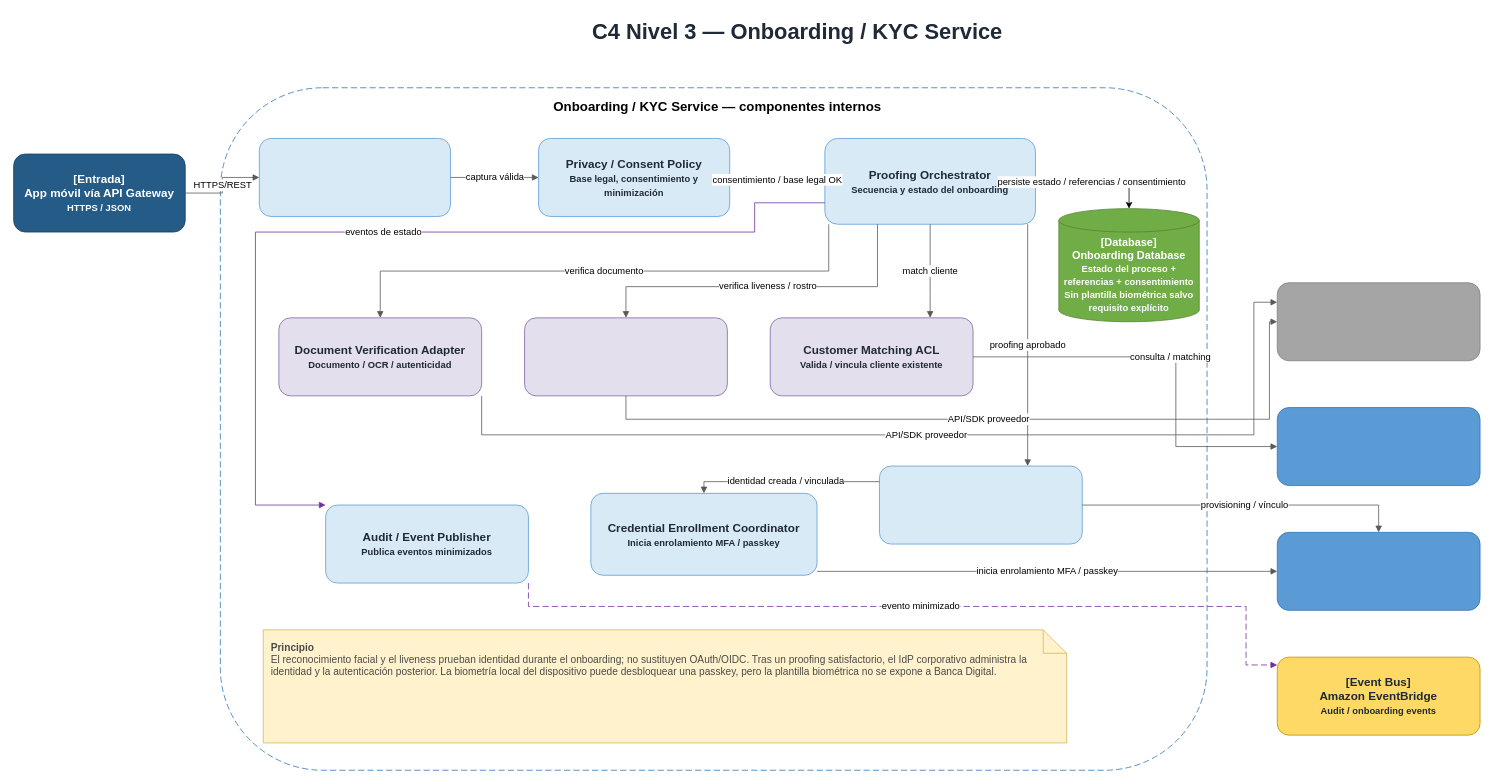
Image size: 1494x784. Some labels were removed from this diagram. Each missing label, with the box of its shape:
[Sistema] Core / Customer Detail Matching y validación de cliente: (1276, 407, 1480, 486)
[Sistema] IdP corporativo Identidad / MFA / passkeys: (1276, 532, 1480, 610)
[Tercero] Proveedor KYC / Biometría Documento, liveness, rostro: (1276, 282, 1480, 361)
Biometric Verification Adapter Liveness + comparación facial: (524, 317, 727, 396)
Identity Provisioner Alta / vínculo de identidad en IdP: (879, 465, 1082, 544)
Onboarding API / Controller Contrato, DTOs, validación de entrada: (259, 138, 450, 216)
